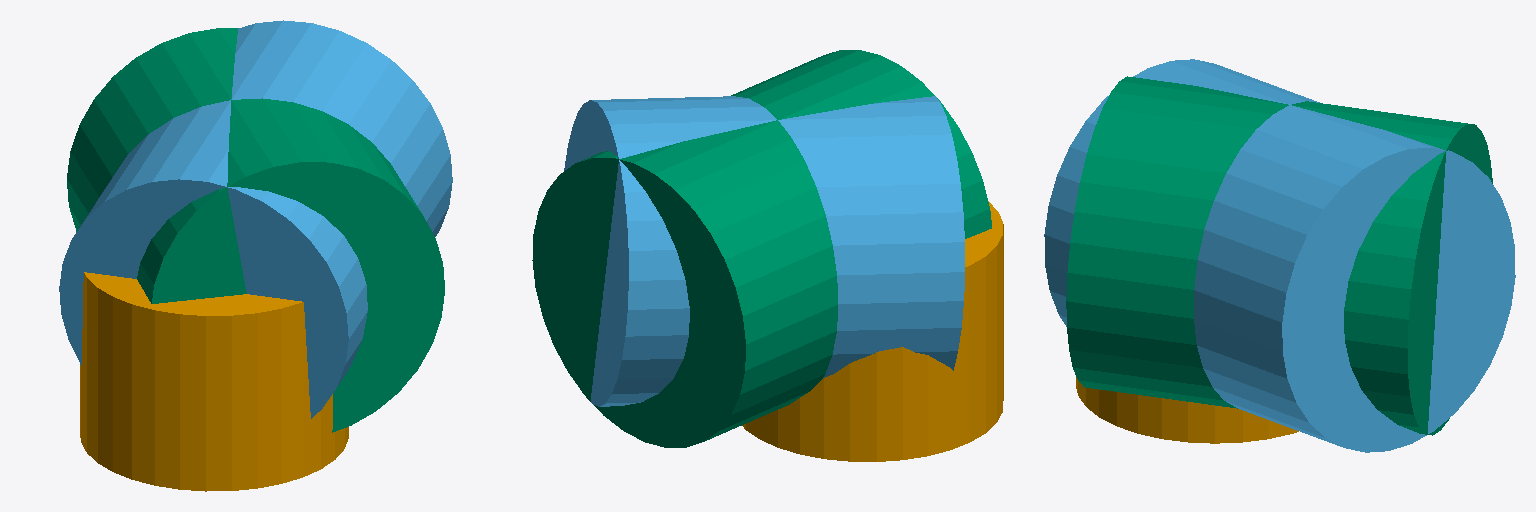
The robot description file, URDF, robot "pepe":
<?xml version="1.0"?><robot name="pepe">
	<link name="0">
		<visual>
			<geometry>
				<cylinder length="1.1617266021129913" radius="0.8085890020940296"/>
			</geometry>
		</visual>
		<collision>
			<geometry>
				<cylinder length="1.1617266021129913" radius="0.8085890020940296"/>
			</geometry>
		</collision>
		<inertial>
			<mass value="2.3862144267366823"/>
			<inertia ixx="0.03" iyy="0.03" izz="0.03" ixy="0" ixz="0" iyx="0"/>
		</inertial>
	</link>
	<link name="11">
		<visual>
			<geometry>
				<cylinder length="2.052335271366942" radius="0.9127046226389154"/>
			</geometry>
		</visual>
		<collision>
			<geometry>
				<cylinder length="2.052335271366942" radius="0.9127046226389154"/>
			</geometry>
		</collision>
		<inertial>
			<mass value="5.371043651051132"/>
			<inertia ixx="0.03" iyy="0.03" izz="0.03" ixy="0" ixz="0" iyx="0"/>
		</inertial>
	</link>
	<link name="12">
		<visual>
			<geometry>
				<cylinder length="2.052335271366942" radius="0.9127046226389154"/>
			</geometry>
		</visual>
		<collision>
			<geometry>
				<cylinder length="2.052335271366942" radius="0.9127046226389154"/>
			</geometry>
		</collision>
		<inertial>
			<mass value="5.371043651051132"/>
			<inertia ixx="0.03" iyy="0.03" izz="0.03" ixy="0" ixz="0" iyx="0"/>
		</inertial>
	</link>
	<joint name="11_to_0" type="revolute">
		<parent link="0"/>
		<child link="11"/>
		<axis xyz="0 0 1"/>
		<limit effort="1" upper="-3.1415" lower="3.1415" velocity="1"/>
		<origin rpy="7.411953740856436 4.876322053624647 2.7448851529332043" xyz="0.5045162168138982 0.37417202270557537 0.47573861974484777"/>
	</joint>
	<joint name="12_to_0" type="revolute">
		<parent link="0"/>
		<child link="12"/>
		<axis xyz="0 0 1"/>
		<limit effort="1" upper="-3.1415" lower="3.1415" velocity="1"/>
		<origin rpy="11.117930611284654 4.876322053624647 2.7448851529332043" xyz="0.5045162168138982 0.37417202270557537 0.47573861974484777"/>
	</joint>
</robot>

--- What the picture shows (computed from the rendered views, not written in the file) ---
Views: 3 orthographic renders of the robot side by side, from view 1: azimuth 30°, elevation 25°; view 2: azimuth 150°, elevation 25°; view 3: azimuth 270°, elevation 25°.
Robot: pepe — 3 links, 2 joints (2 revolute); root link 0; default pose: all joints at 0.
Links seen in each view (by area): view 1: 12, 11, 0; view 2: 12, 11, 0; view 3: 11, 12, 0.
Boxes of the visible links, x1,y1,x2,y2 form: 12: (67, 28, 444, 432); 11: (59, 20, 452, 418); 0: (80, 272, 348, 491); 12: (532, 50, 991, 447); 11: (564, 96, 964, 406); 0: (742, 201, 1003, 461); 11: (1044, 59, 1515, 452); 12: (1066, 76, 1492, 435); 0: (1076, 377, 1298, 443).
Size in the robot's own frame: 2.75 by 2.73 by 2.04 metres.
Geometry: primitives only (box / cylinder / sphere), no mesh files.
